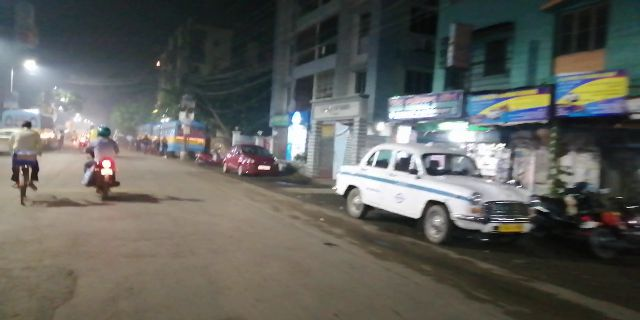Car: (342, 139, 542, 251), (219, 144, 280, 180)
Cycle: (8, 119, 39, 202)
Motorbike: (86, 123, 122, 200)
